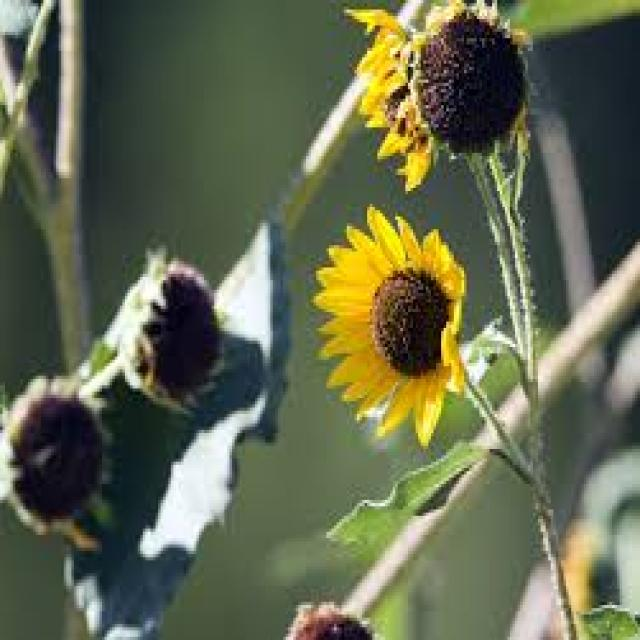sunflower: (334, 0, 554, 201), (310, 196, 479, 457)
